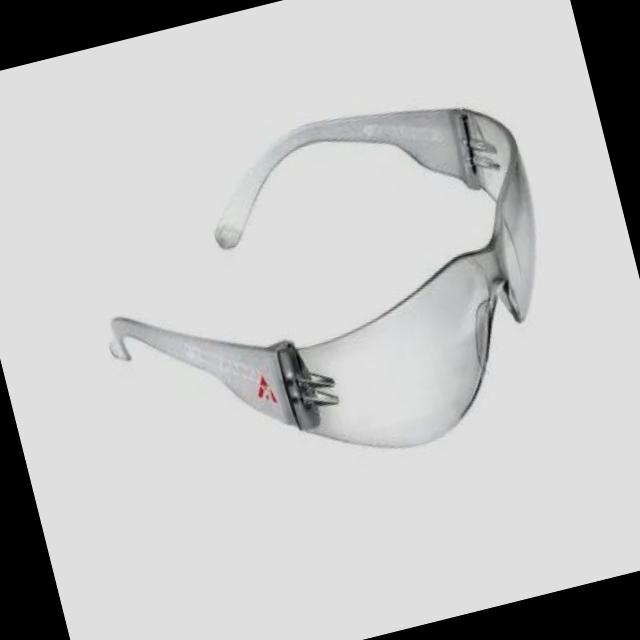goggles: (56, 56, 596, 524)
